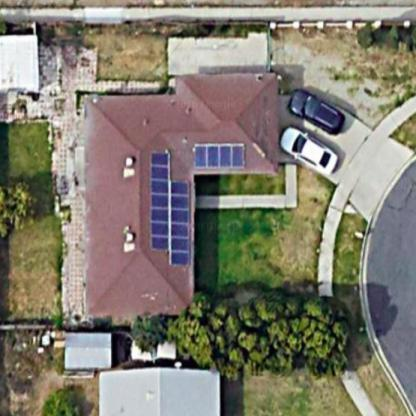car: (272, 124, 343, 182), (284, 82, 352, 139)
solar_panel: (144, 146, 195, 276), (188, 137, 249, 171)
